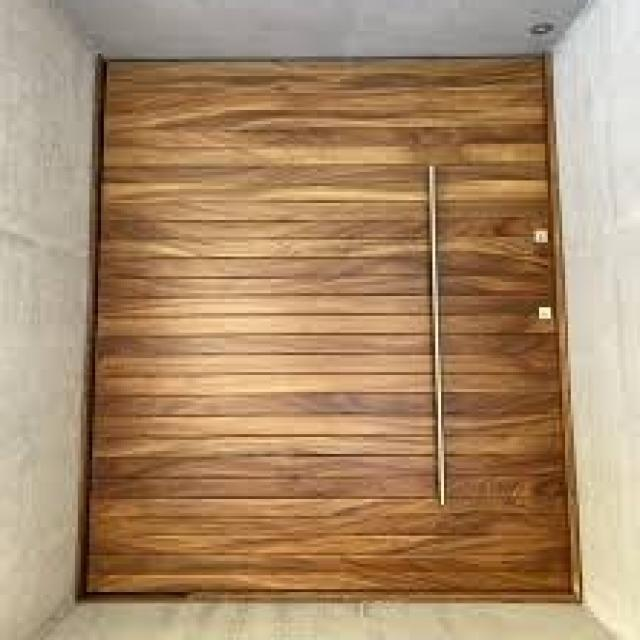door: (78, 55, 582, 605)
